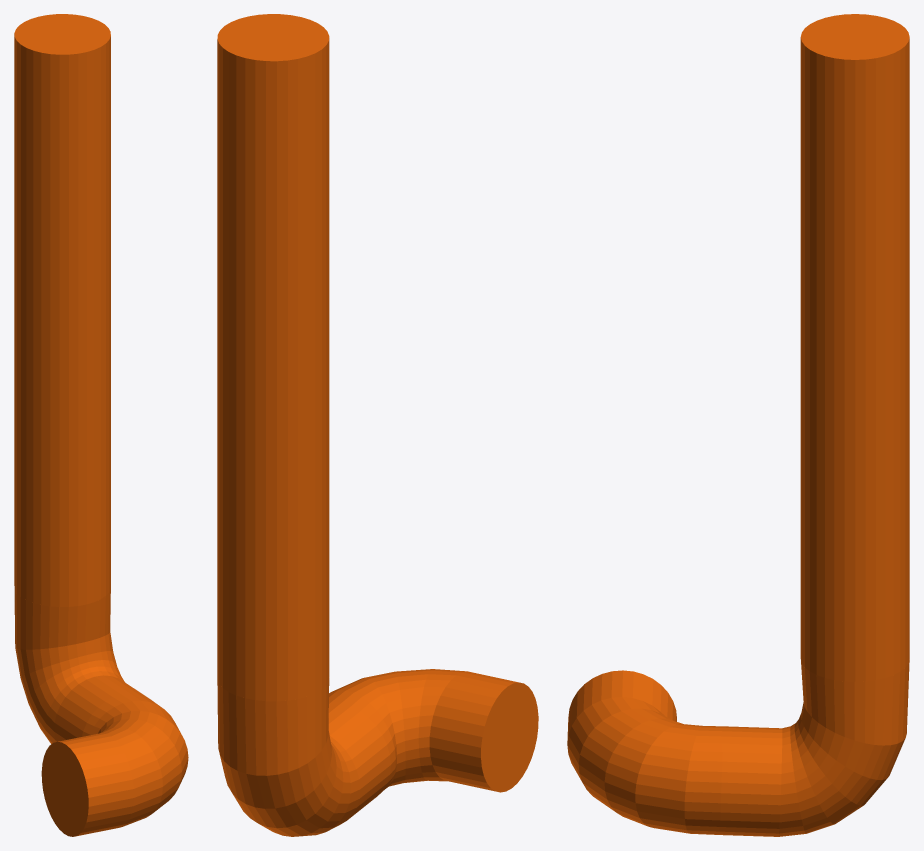
File: Snorkel.fbx
3 views of the same model, side by side, from view 1: azimuth 30°, elevation 25°; view 2: azimuth 150°, elevation 25°; view 3: azimuth 270°, elevation 25° (orthographic). The views are drawn at different scales.
Parts seen in each view (by area): view 1: Cylinder; view 2: Cylinder; view 3: Cylinder.
Part boxes in pixels (x1,y1,x2,y2): Cylinder: (14, 14, 188, 836); Cylinder: (217, 14, 538, 836); Cylinder: (567, 14, 909, 836).
Size of the model in its own units: 345 by 1611 by 629.
